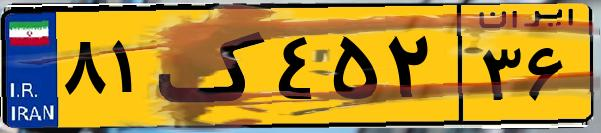1: (110, 28, 158, 98)
2: (385, 28, 445, 110)
3: (475, 38, 525, 113)
4: (270, 28, 330, 110)
5: (330, 28, 385, 110)
6: (525, 38, 570, 115)
8: (57, 26, 110, 100)
ک: (158, 12, 270, 120)
